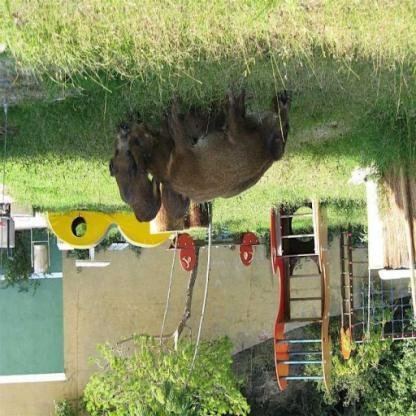boar: (154, 76, 297, 204), (93, 111, 161, 229)
